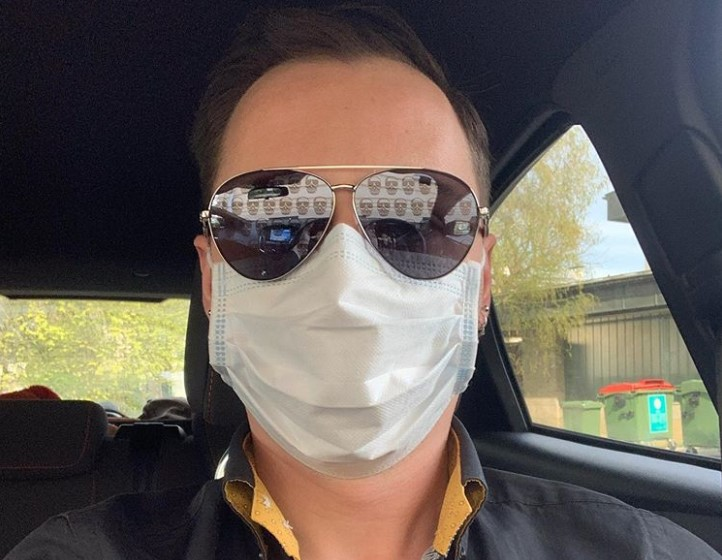face_with_mask: (194, 48, 493, 475)
